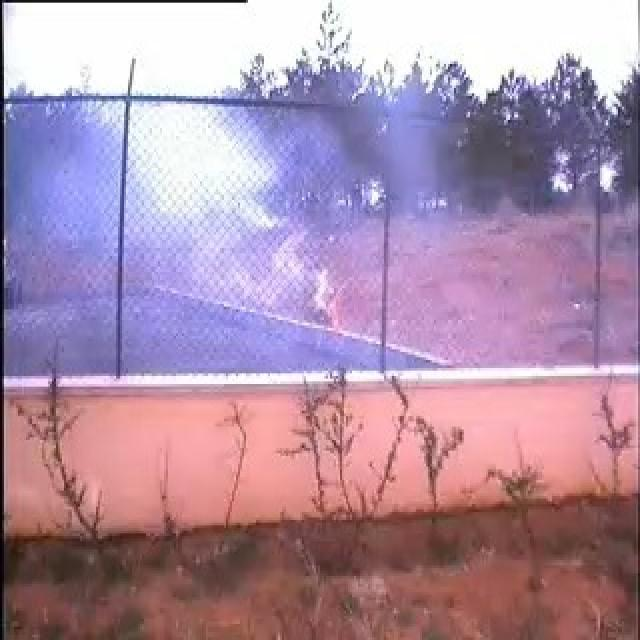Smoke: (77, 104, 370, 369)
